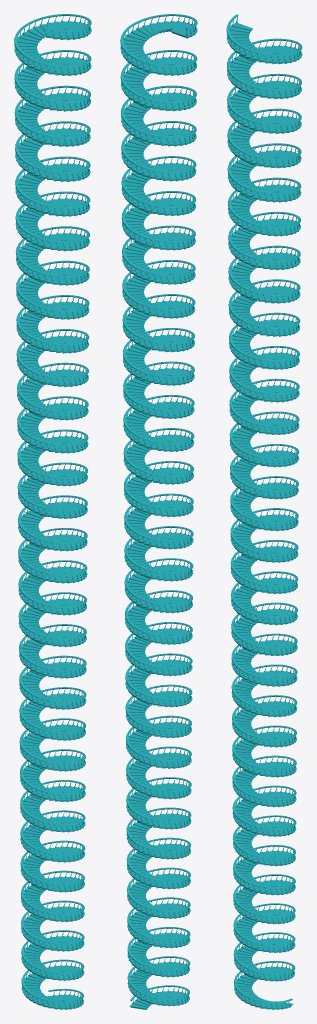
The model's file is Stair.fbx.
3 views of the same model, side by side, from view 1: azimuth 90°, elevation 25°; view 2: azimuth 150°, elevation 25°; view 3: azimuth 330°, elevation 25° (orthographic). The views are drawn at different scales.
Visible parts, largest first — view 1: Circle; view 2: Circle; view 3: Circle.
Boxes of the visible parts, box(x1,y1,x2,y2) form: Circle: box(14, 14, 91, 1009); Circle: box(120, 14, 197, 1009); Circle: box(226, 14, 302, 1009).
Size of the model in its own units: 257 by 256 by 3638.
